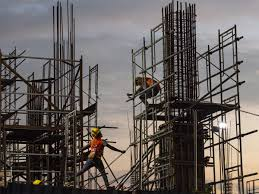helmet: (90, 125, 103, 137)
human: (77, 124, 108, 176)
leg: (95, 159, 121, 189), (74, 158, 94, 176)
vest: (88, 136, 103, 157)
